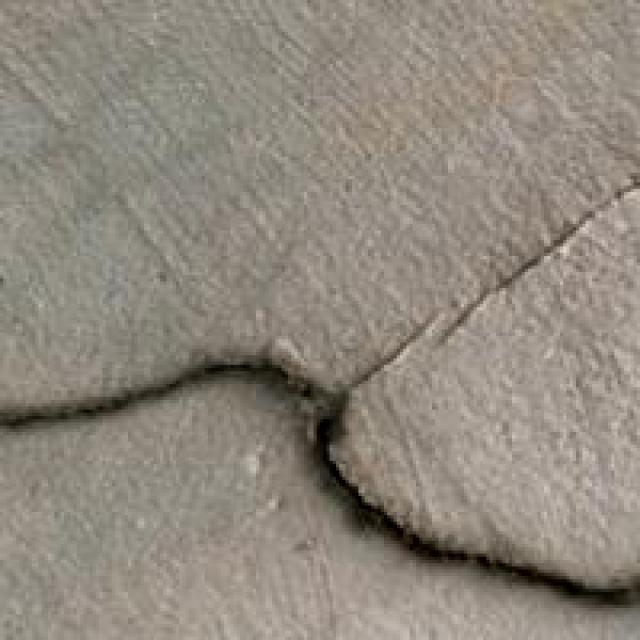crack: (0, 340, 640, 606)
